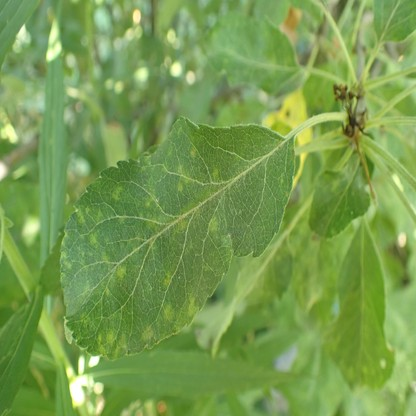scab: (61, 149, 219, 357)
